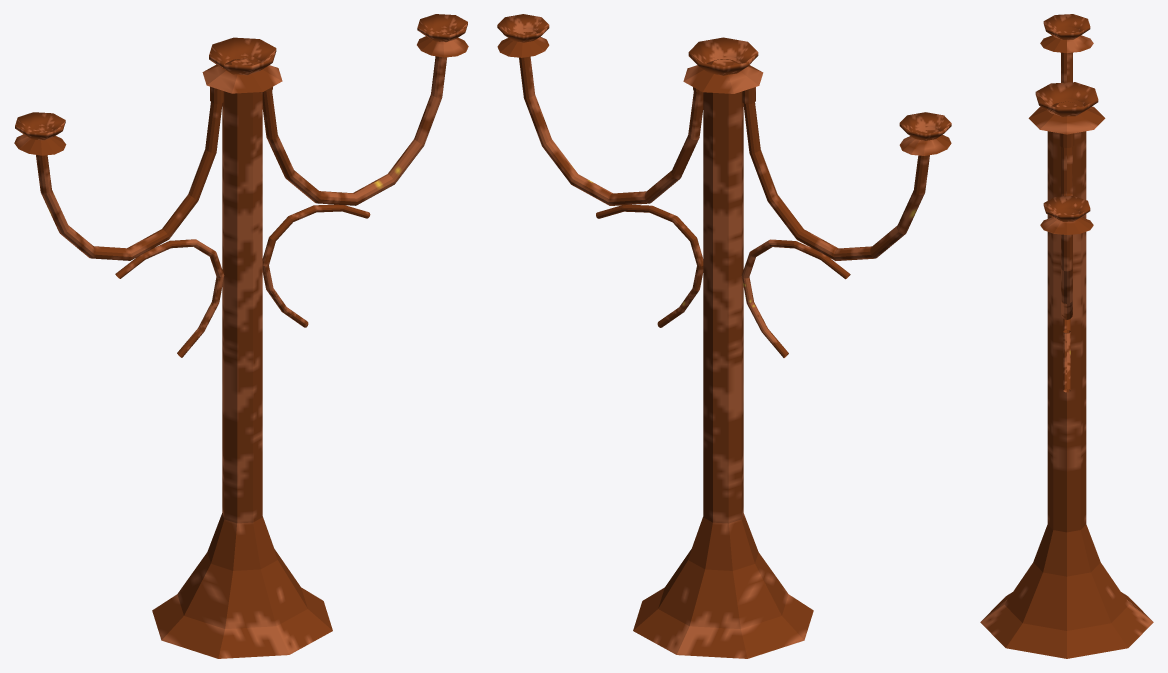
The model's file is SM_Dungeon_Candelabra_Tabletop_NoCandles.fbx.
3 renders of one model, left to right at view 1: azimuth 30°, elevation 25°; view 2: azimuth 150°, elevation 25°; view 3: azimuth 270°, elevation 25°, orthographic. The views are drawn at different scales.
Parts seen in each view (by area): view 1: SM_Dungeon_Candelabra_Tabletop_NoCandles; view 2: SM_Dungeon_Candelabra_Tabletop_NoCandles; view 3: SM_Dungeon_Candelabra_Tabletop_NoCandles.
Part boxes in pixels (bbox=[...]): SM_Dungeon_Candelabra_Tabletop_NoCandles: bbox=[14, 14, 468, 658]; SM_Dungeon_Candelabra_Tabletop_NoCandles: bbox=[497, 14, 951, 658]; SM_Dungeon_Candelabra_Tabletop_NoCandles: bbox=[980, 14, 1153, 658].
Bounding box in the file's own units: 62.15 × 75.74 × 22.6.
